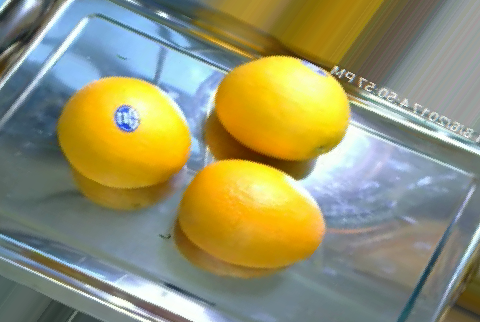Orange: (178, 158, 325, 268), (57, 74, 192, 188), (214, 55, 352, 160)
